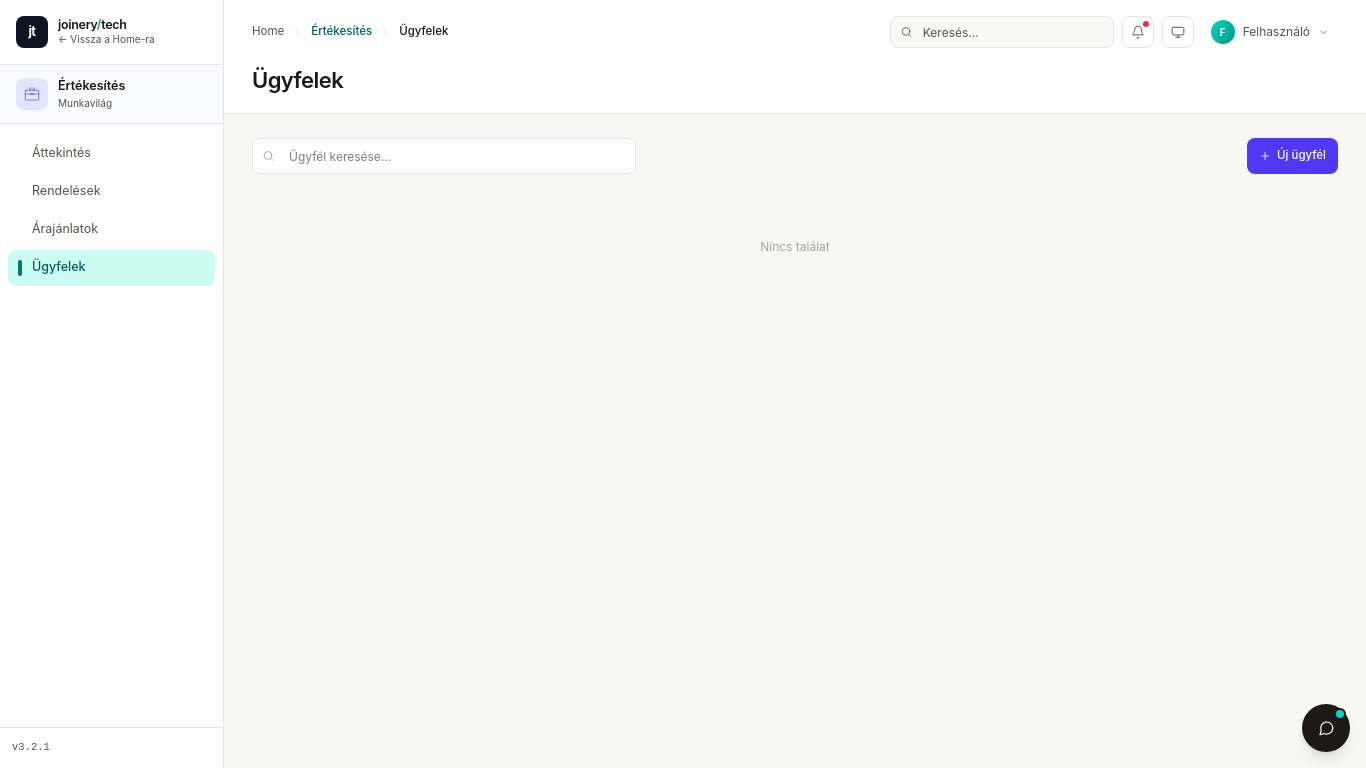
Scenario: SalesPage › CreateCustomerSlideOver: shows validation errors on empty submit
Click the button "Új ügyfél". click: (1292, 156)
box: [1247,138,1338,174]
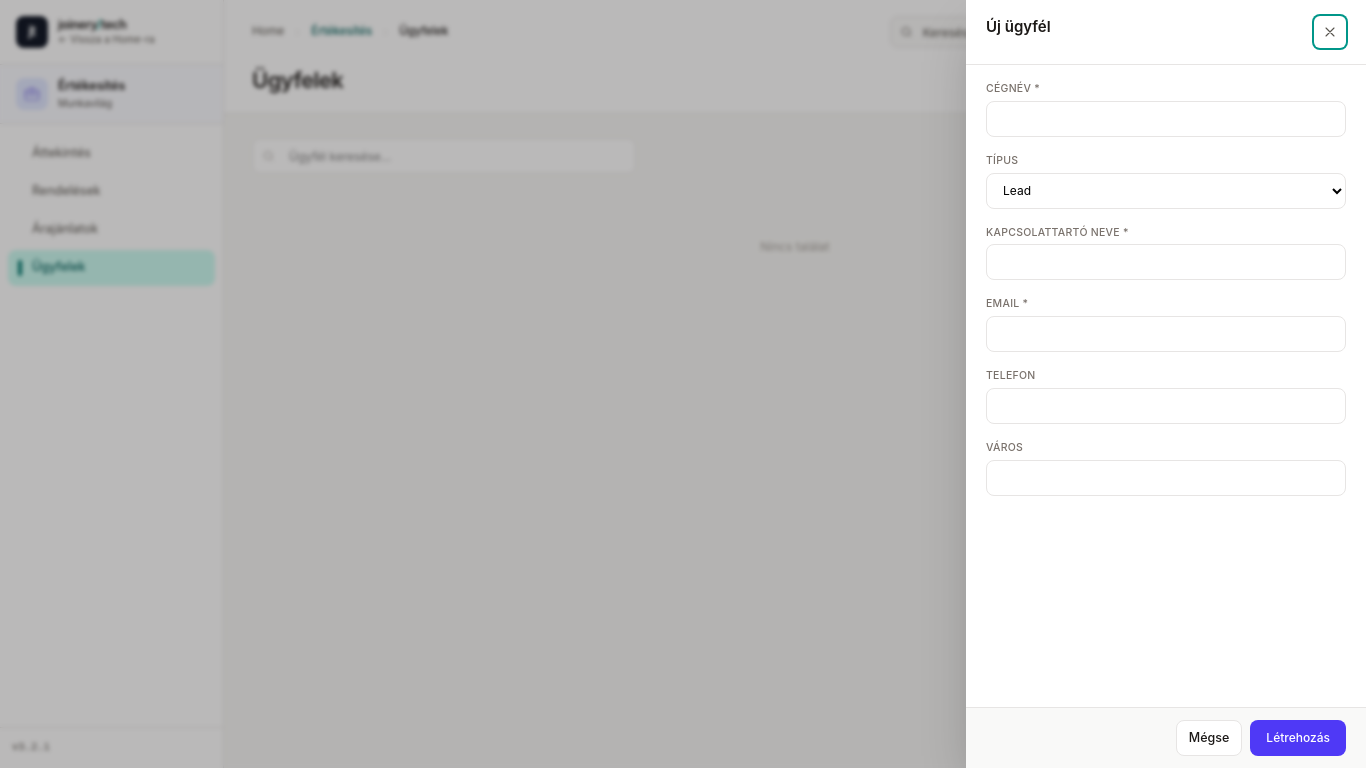
Note: submit without filling required fields
Click the button "Létrehozás". click: (1298, 738)
box: [1250,720,1346,756]
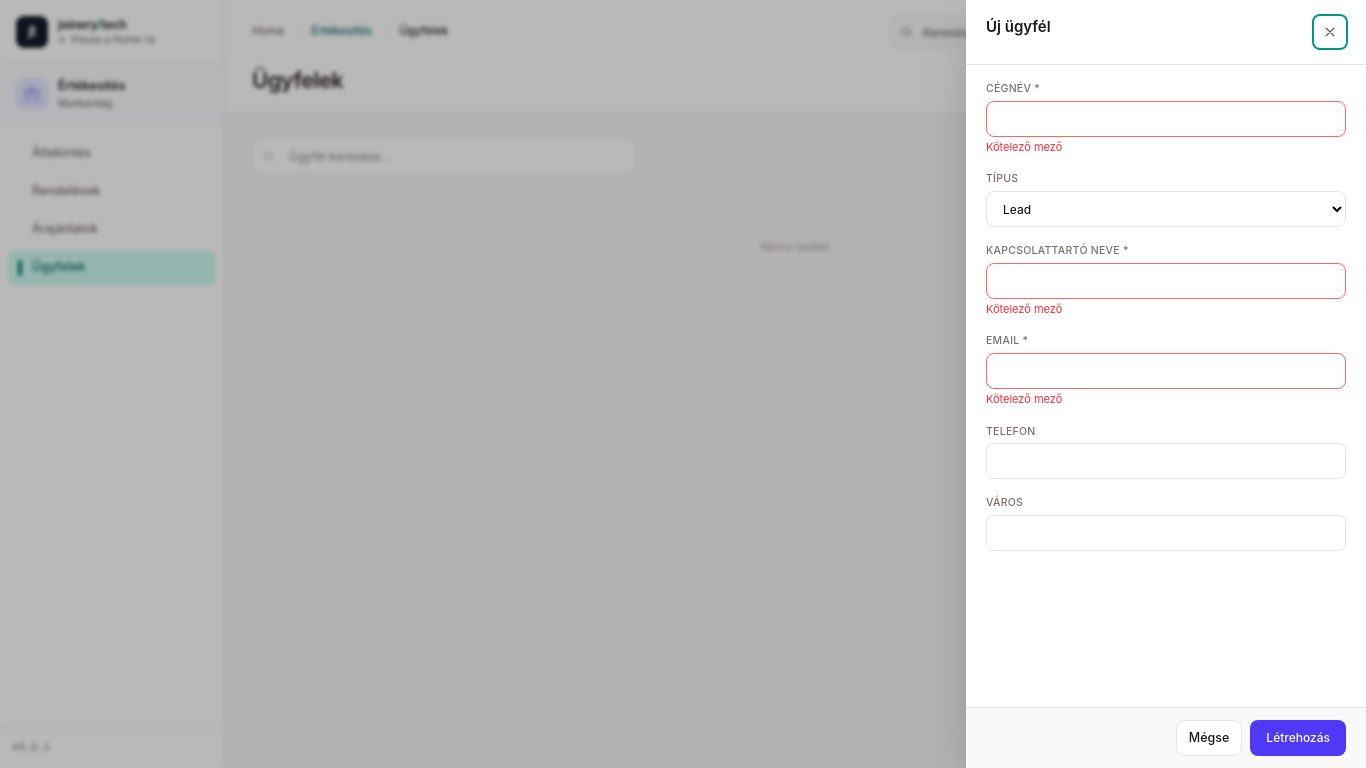
Expected: the text "Kötelező mező" below "Cégnév *" is shown, [986,140,1062,154]
